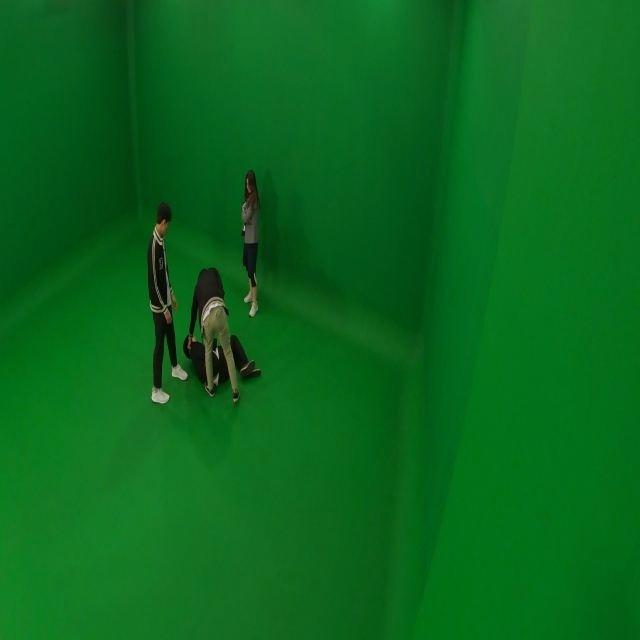fight: (184, 267, 264, 405)
non-fight: (143, 200, 184, 407), (237, 169, 264, 317)
